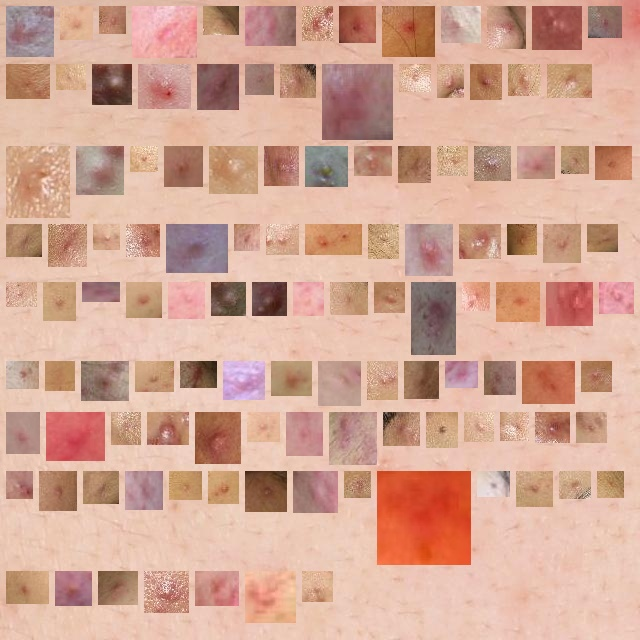papule: (385, 479, 463, 557), (330, 72, 385, 133), (14, 154, 62, 210), (140, 14, 189, 50), (419, 290, 448, 347), (174, 232, 220, 265), (54, 420, 97, 453), (390, 14, 427, 49), (253, 579, 288, 615), (337, 420, 369, 457), (413, 232, 445, 268), (14, 14, 46, 49), (203, 420, 233, 456), (146, 72, 183, 101), (84, 154, 116, 187), (217, 154, 250, 186), (530, 369, 567, 396), (540, 14, 574, 42), (554, 290, 585, 318), (253, 14, 288, 38), (326, 369, 353, 398), (205, 72, 231, 102), (89, 369, 121, 393), (301, 479, 330, 505), (152, 579, 181, 605), (313, 154, 340, 179), (504, 290, 532, 314), (253, 479, 279, 504), (495, 14, 518, 41), (56, 232, 79, 259), (313, 232, 354, 247), (100, 72, 124, 97), (231, 369, 257, 392), (294, 420, 315, 448), (172, 154, 195, 179), (14, 72, 42, 91), (203, 579, 231, 598), (47, 479, 69, 503), (555, 72, 584, 90), (551, 232, 573, 255), (133, 479, 155, 502), (449, 14, 473, 35), (467, 232, 493, 251), (279, 369, 304, 388), (14, 420, 32, 446), (14, 579, 41, 596), (272, 154, 291, 178), (155, 420, 181, 437), (347, 14, 368, 35), (176, 290, 197, 311), (106, 579, 130, 597), (524, 479, 545, 499), (412, 369, 431, 391), (134, 290, 154, 310), (482, 154, 503, 173), (63, 579, 84, 598), (51, 290, 68, 313), (603, 154, 624, 172), (188, 362, 209, 380), (391, 420, 412, 438), (525, 154, 547, 171), (338, 290, 360, 307), (288, 72, 308, 90), (406, 154, 423, 175), (143, 369, 166, 384), (375, 369, 390, 392), (219, 290, 238, 308), (260, 290, 279, 308), (14, 232, 34, 249), (91, 479, 111, 496), (478, 72, 494, 92), (434, 420, 450, 440), (362, 154, 384, 168), (68, 14, 85, 32), (134, 232, 152, 249), (607, 290, 626, 306), (596, 14, 614, 30), (492, 369, 508, 387), (310, 14, 325, 33), (376, 232, 391, 251), (543, 420, 562, 435), (516, 72, 533, 88), (301, 290, 316, 308), (211, 14, 231, 27), (274, 232, 291, 247), (216, 479, 231, 496), (90, 290, 112, 301), (119, 420, 133, 437), (255, 420, 272, 434), (382, 290, 397, 305), (589, 369, 604, 384), (584, 420, 599, 435), (310, 579, 325, 594), (177, 479, 194, 492), (445, 154, 460, 168), (515, 232, 529, 247), (14, 369, 31, 381), (445, 72, 456, 90), (53, 369, 67, 383), (472, 420, 486, 434), (253, 72, 266, 87), (407, 72, 423, 84), (567, 479, 583, 491), (453, 369, 470, 380), (595, 232, 610, 244), (485, 479, 502, 489), (508, 420, 521, 433), (470, 290, 482, 303), (569, 154, 581, 166), (64, 72, 78, 82), (14, 290, 29, 299), (107, 14, 118, 26), (14, 479, 25, 491), (352, 479, 363, 490), (605, 479, 616, 490), (138, 154, 150, 164), (101, 232, 112, 242), (242, 232, 252, 243)
